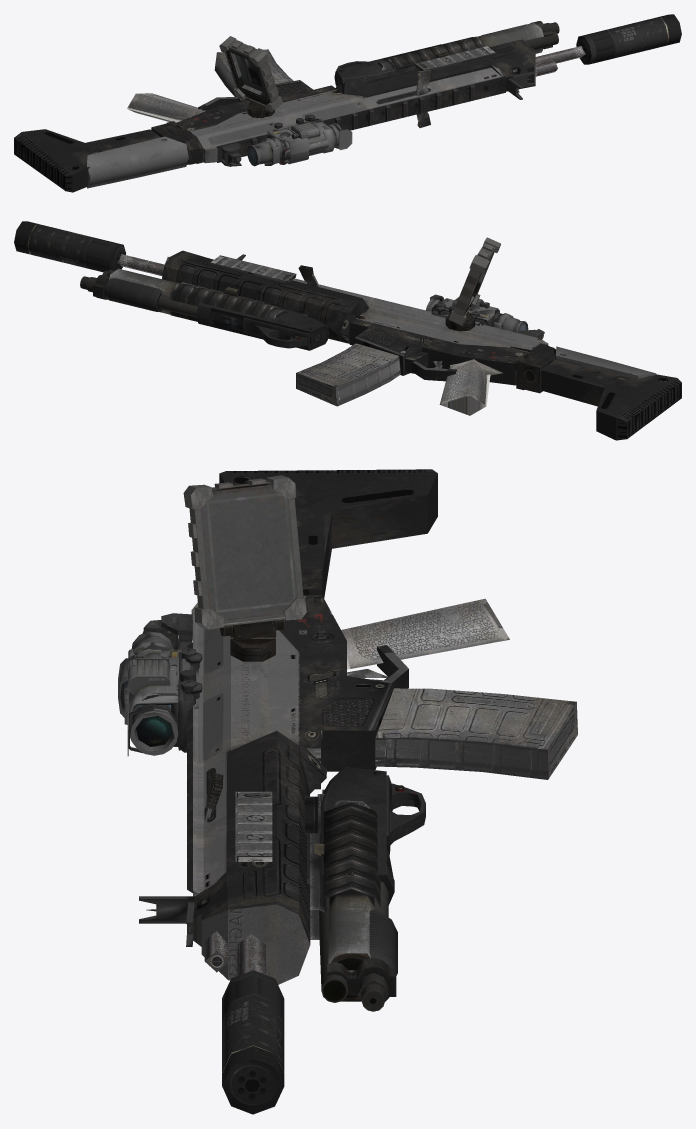
Rendered from weapon_magpul_masada_orange_fall_LOD0.obj.
The picture shows the model from 3 angles, top to bottom: view 1: azimuth 30°, elevation 25°; view 2: azimuth 150°, elevation 25°; view 3: azimuth 270°, elevation 25°; orthographic projection. The views are drawn at different scales.
Parts seen in each view (by area): view 1: mtl_weapon_magpul_masada_orange_fall, mtl_weapon_suppressor_b, mtl_weapon_motion_tracker_orange_fall, mtl_weapon_m203, mtl_weapon_shotgun_masterkey, mtl_weapon_thermal_sight_2_orange_fall, mtl_weapon_magpul_masada_metal, mtl_weapon_acog_2_orange_fall, mtl_weapon_eotech_2_orange_fall, mtl_weapon_magpul_masada_iron, mtl_weapon_red_dot_sight_orange_fall; view 2: mtl_weapon_magpul_masada_orange_fall, mtl_weapon_shotgun_masterkey, mtl_weapon_suppressor_b, mtl_weapon_m203, mtl_weapon_motion_tracker_orange_fall, mtl_weapon_magpul_masada_metal, mtl_weapon_acog_2_orange_fall, mtl_weapon_thermal_sight_2_orange_fall; view 3: mtl_weapon_magpul_masada_orange_fall, mtl_weapon_motion_tracker_orange_fall, mtl_weapon_shotgun_masterkey, mtl_weapon_m203, mtl_weapon_suppressor_b, mtl_weapon_thermal_sight_2_orange_fall, mtl_weapon_magpul_masada_metal, mtl_weapon_red_dot_sight_orange_fall, mtl_weapon_acog_2_orange_fall, mtl_weapon_magpul_masada_iron, mtl_weapon_magpul_masada_iron_on.
Boxes of the visible parts, x1,y1,x2,y2 form: mtl_weapon_magpul_masada_orange_fall: (14,39,535,192); mtl_weapon_suppressor_b: (576,14,681,64); mtl_weapon_motion_tracker_orange_fall: (219,36,282,118); mtl_weapon_m203: (377,23,543,70); mtl_weapon_shotgun_masterkey: (334,21,559,86); mtl_weapon_thermal_sight_2_orange_fall: (264,118,352,165); mtl_weapon_magpul_masada_metal: (416,46,585,127); mtl_weapon_acog_2_orange_fall: (247,115,336,166); mtl_weapon_eotech_2_orange_fall: (267,121,308,164); mtl_weapon_magpul_masada_iron: (221,142,241,166); mtl_weapon_red_dot_sight_orange_fall: (269,114,334,153); mtl_weapon_magpul_masada_orange_fall: (162,250,681,440); mtl_weapon_shotgun_masterkey: (80,270,328,350); mtl_weapon_suppressor_b: (14,221,125,272); mtl_weapon_m203: (108,268,308,321); mtl_weapon_motion_tracker_orange_fall: (445,237,500,331); mtl_weapon_magpul_masada_metal: (117,254,319,287); mtl_weapon_acog_2_orange_fall: (431,299,528,332); mtl_weapon_thermal_sight_2_orange_fall: (426,294,503,326); mtl_weapon_magpul_masada_orange_fall: (187,469,577,984); mtl_weapon_motion_tracker_orange_fall: (183,475,306,661); mtl_weapon_shotgun_masterkey: (307,767,425,1011); mtl_weapon_m203: (305,789,380,1001); mtl_weapon_suppressor_b: (222,970,284,1114); mtl_weapon_thermal_sight_2_orange_fall: (124,642,196,756); mtl_weapon_magpul_masada_metal: (204,772,265,975); mtl_weapon_red_dot_sight_orange_fall: (128,648,197,752); mtl_weapon_acog_2_orange_fall: (128,631,202,734); mtl_weapon_magpul_masada_iron: (142,613,192,649); mtl_weapon_magpul_masada_iron_on: (139,896,194,923).
Size of the model in its own units: 104 by 19.4 by 33.61.
